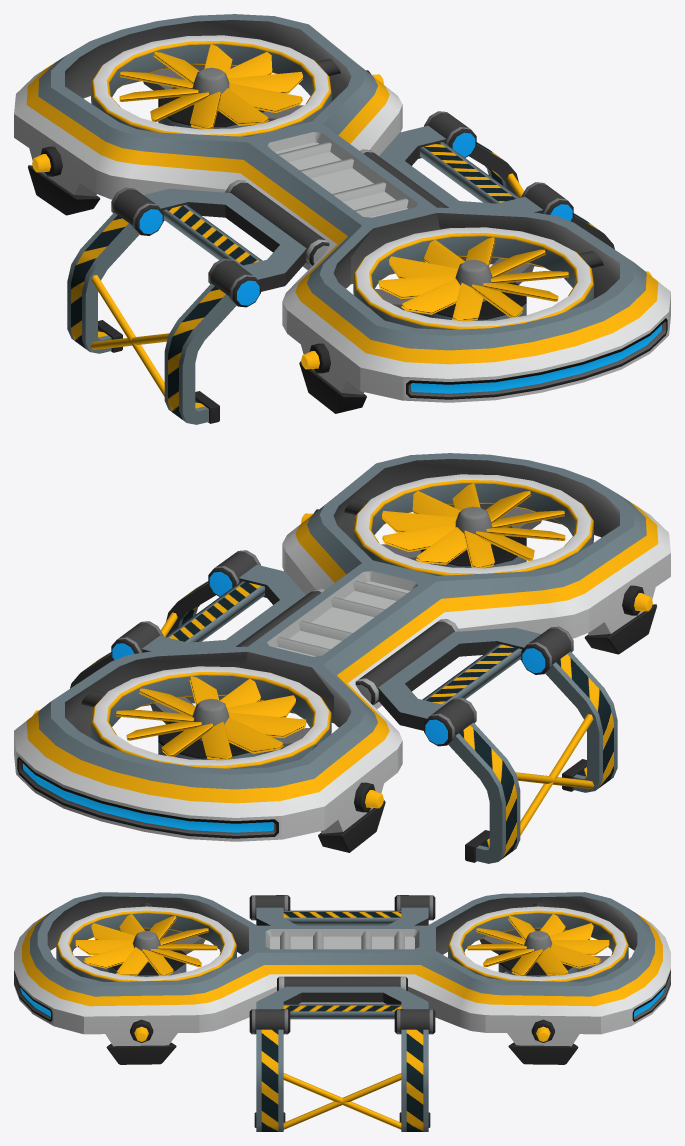
The model's file is Cargo_drone_004.glb.
3 renders of one model, top to bottom at view 1: azimuth 30°, elevation 25°; view 2: azimuth 150°, elevation 25°; view 3: azimuth 270°, elevation 25°, orthographic. The views are drawn at different scales.
Parts seen in each view (by area): view 1: Cargo_drone_004, Cargo_drone_004_grab_004, Cargo_drone_004_propeller_001, Cargo_drone_004_propeller_002, Cargo_drone_004_grab_002; view 2: Cargo_drone_004, Cargo_drone_004_grab_004, Cargo_drone_004_propeller_002, Cargo_drone_004_propeller_001, Cargo_drone_004_grab_002; view 3: Cargo_drone_004, Cargo_drone_004_grab_002, Cargo_drone_004_propeller_001, Cargo_drone_004_propeller_002.
Boxes of the visible parts, left/top/right/bottom form: Cargo_drone_004: left=14, top=14, right=670, bottom=413; Cargo_drone_004_grab_004: left=67, top=212, right=236, bottom=424; Cargo_drone_004_propeller_001: left=378, top=237, right=568, bottom=321; Cargo_drone_004_propeller_002: left=119, top=44, right=302, bottom=129; Cargo_drone_004_grab_002: left=469, top=142, right=614, bottom=249; Cargo_drone_004: left=14, top=453, right=670, bottom=852; Cargo_drone_004_grab_004: left=448, top=651, right=617, bottom=863; Cargo_drone_004_propeller_002: left=116, top=676, right=306, bottom=760; Cargo_drone_004_propeller_001: left=382, top=483, right=565, bottom=568; Cargo_drone_004_grab_002: left=70, top=581, right=215, bottom=688; Cargo_drone_004: left=14, top=892, right=670, bottom=1064; Cargo_drone_004_grab_002: left=254, top=1029, right=430, bottom=1131; Cargo_drone_004_propeller_001: left=75, top=914, right=217, bottom=975; Cargo_drone_004_propeller_002: left=467, top=914, right=609, bottom=975.
Bounding box in the file's own units: 2.82 × 1.04 × 4.95.
3 materials, 2 textured.
